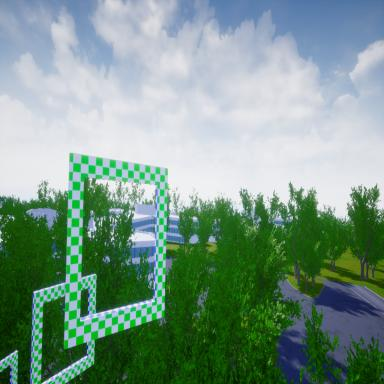gate: (63, 147, 169, 338), (30, 271, 98, 384)
